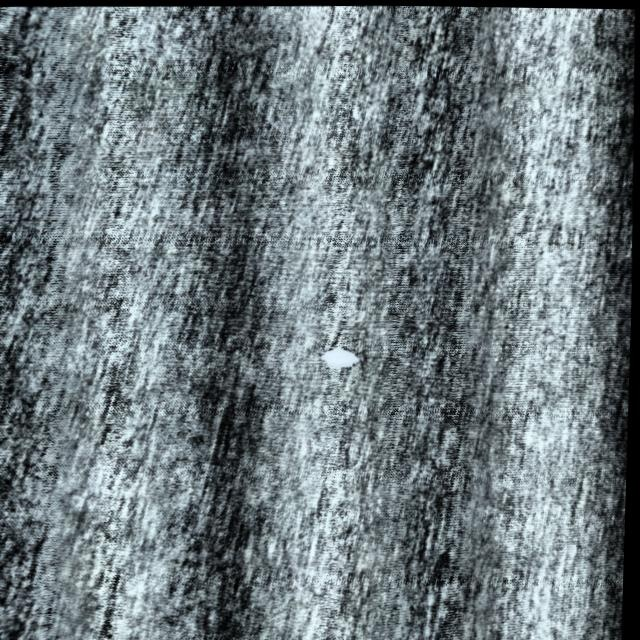Hole: (307, 334, 380, 382)
